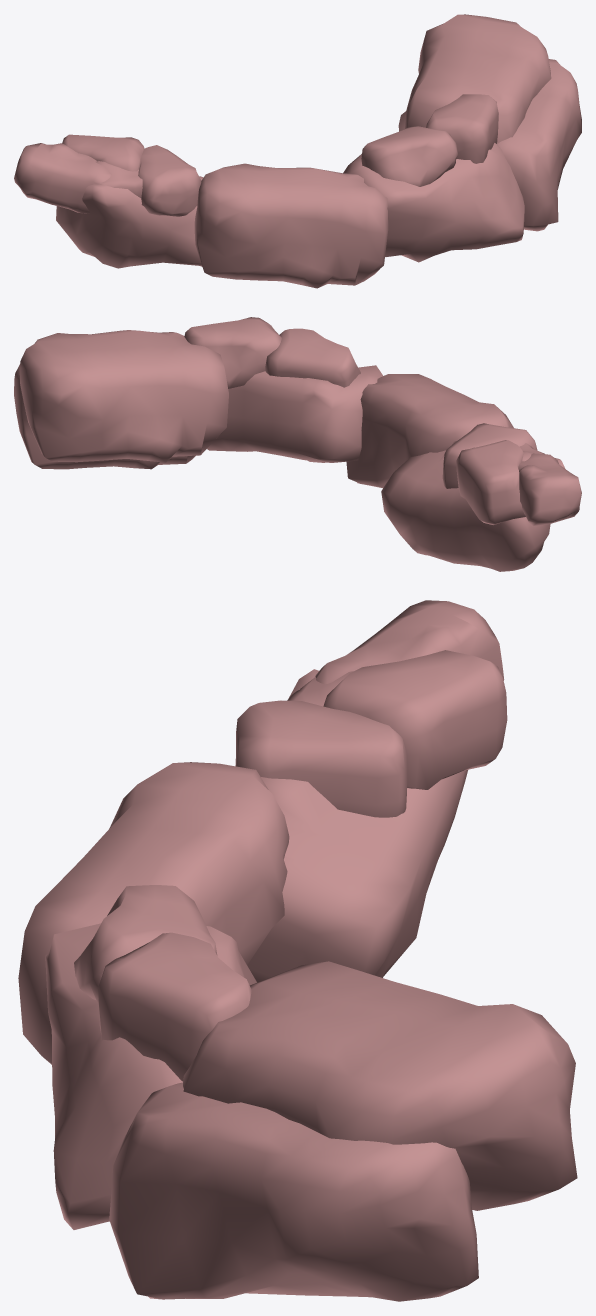
The model's file is Floor_Break_05C_Lod0.fbx.
3 renders of one model, top to bottom at view 1: azimuth 30°, elevation 25°; view 2: azimuth 150°, elevation 25°; view 3: azimuth 270°, elevation 25°, orthographic. The views are drawn at different scales.
Visible parts, largest first — view 1: Floor_Break_05C_Lod0; view 2: Floor_Break_05C_Lod0; view 3: Floor_Break_05C_Lod0.
Boxes of the visible parts, box(x1,y1,x2,y2) form: Floor_Break_05C_Lod0: box(14, 14, 581, 288); Floor_Break_05C_Lod0: box(14, 317, 581, 571); Floor_Break_05C_Lod0: box(18, 600, 577, 1301).
Bounding box in the file's own units: 884 × 223 × 398.
